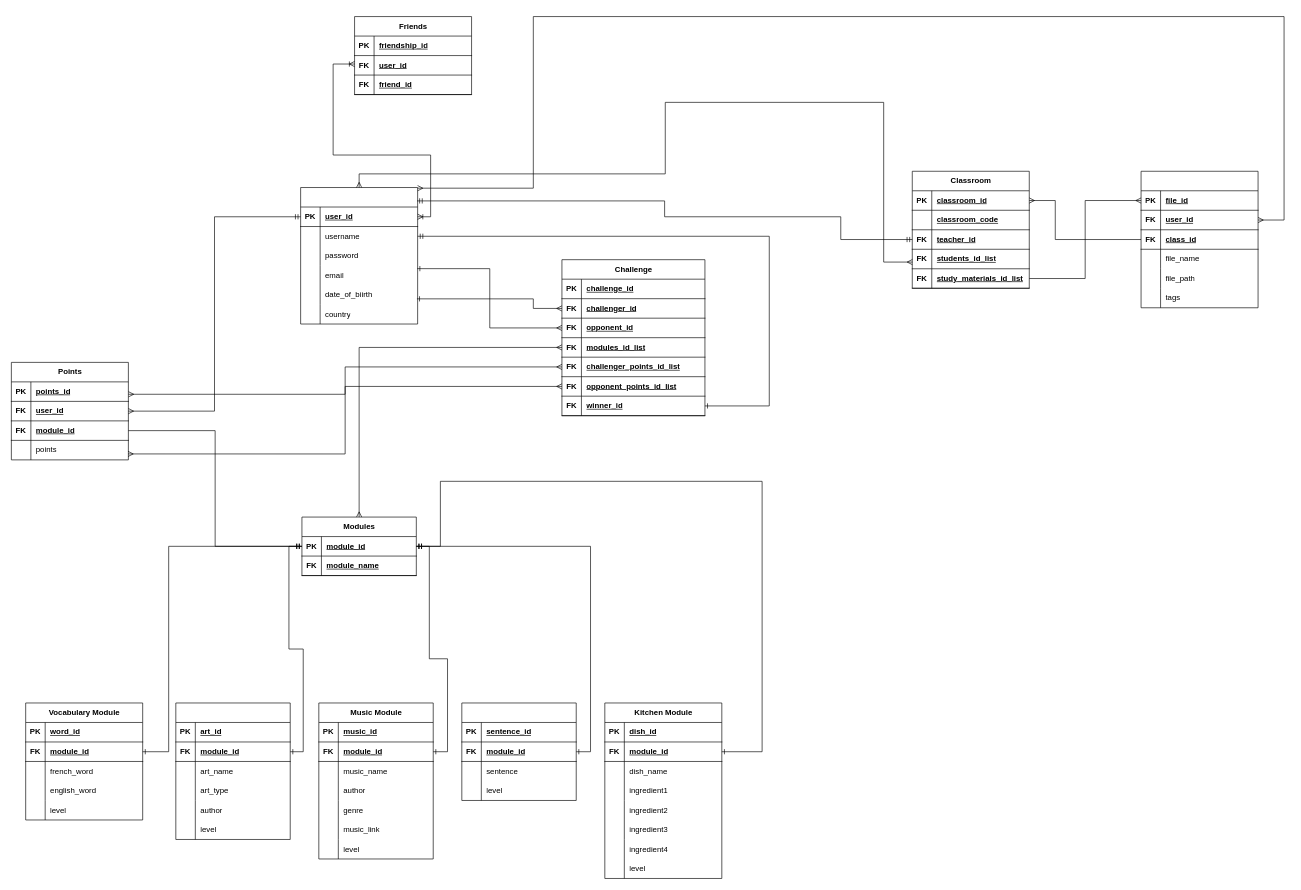
Some shapes in this 1301 by 890 pixel diagram are drawn without their labels. The shapes that lost their labels are listed below. From the top down, each one's box as (x1, y1, x2, y2) in pixels, then its label:
(300, 187, 418, 324): Users
(1140, 171, 1258, 308): Study Material
(175, 702, 290, 839): Art Module
(461, 702, 576, 800): Speaking Module
